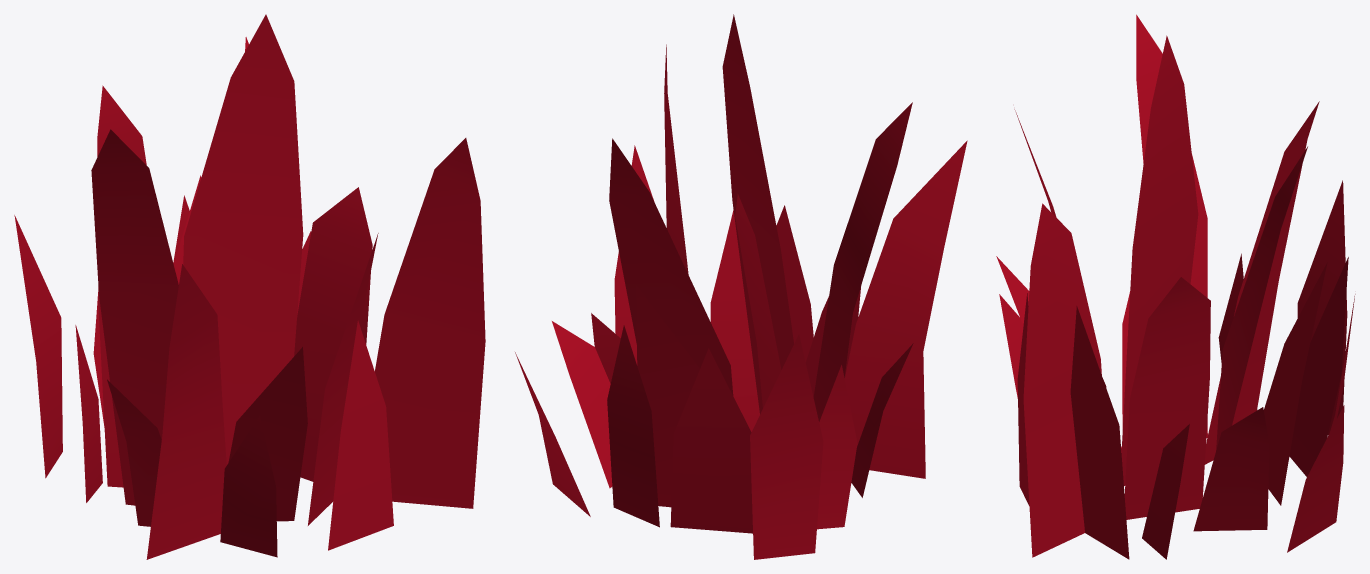
Rendered from Forest_Grass_02.obj.
3 renders of one model, left to right at view 1: azimuth 30°, elevation 25°; view 2: azimuth 150°, elevation 25°; view 3: azimuth 270°, elevation 25°, orthographic. The views are drawn at different scales.
Parts seen in each view (by area): view 1: Forest_Grass_02; view 2: Forest_Grass_02; view 3: Forest_Grass_02.
Part boxes in pixels (x1,y1,x2,y2): Forest_Grass_02: (14, 14, 485, 559); Forest_Grass_02: (515, 14, 967, 559); Forest_Grass_02: (996, 14, 1355, 559).
Size of the model in its own units: 0.2303 by 0.3238 by 0.2302.
